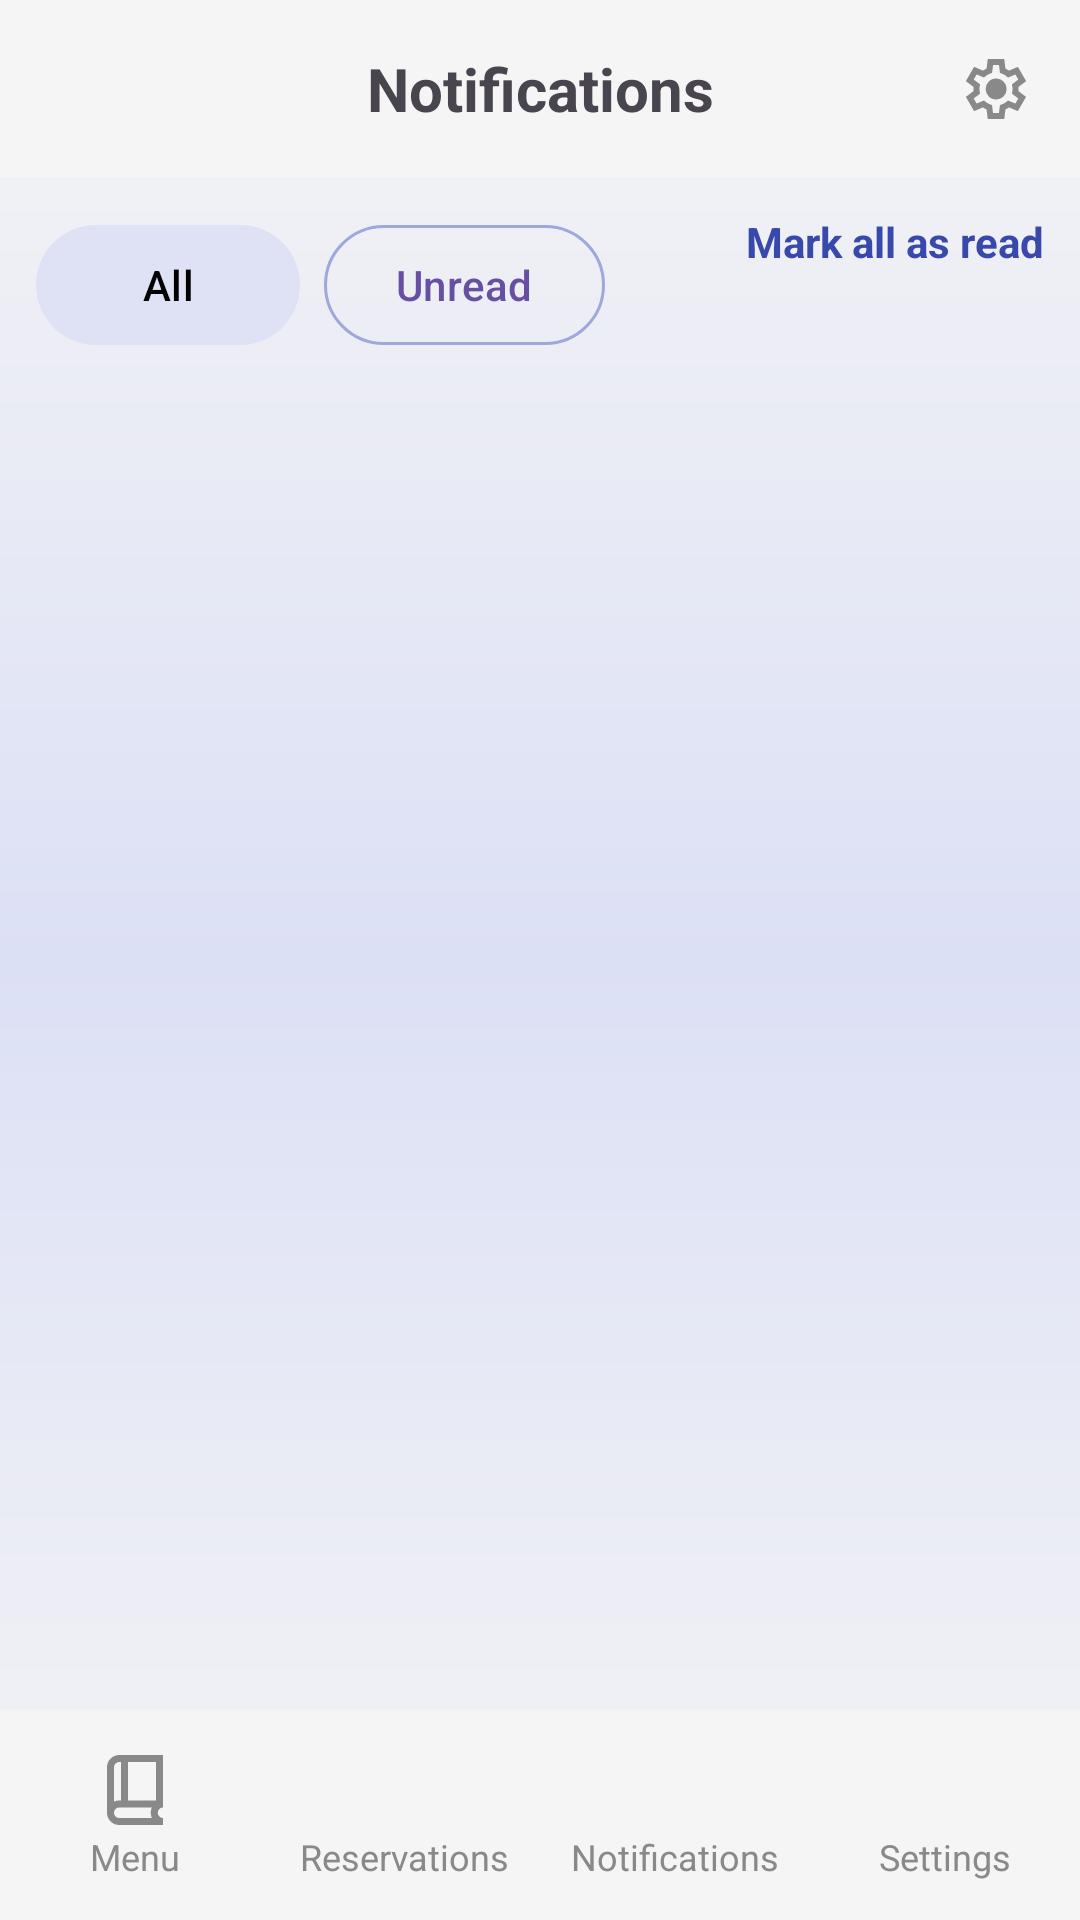

Icon click points for this 1080×1920 phone screenshot, format point (x, y):
setting: point (996, 89)
